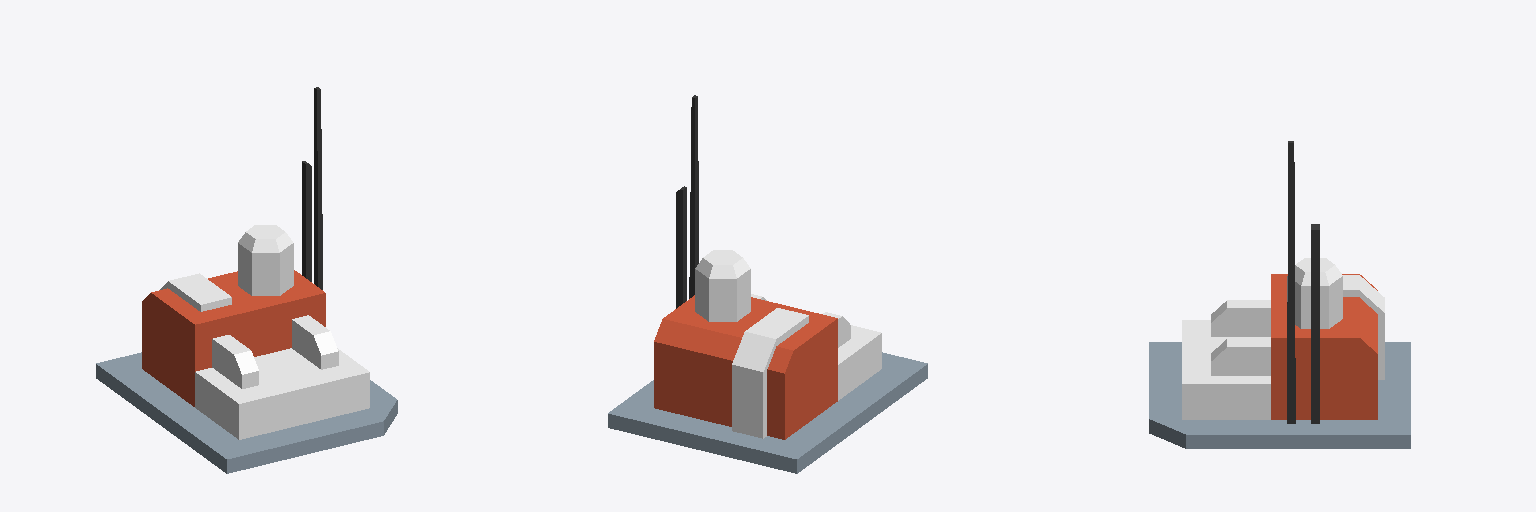
Rendered from stationLarge.obj.
The picture shows the model from 3 angles: view 1: azimuth 30°, elevation 25°; view 2: azimuth 150°, elevation 25°; view 3: azimuth 270°, elevation 25°; orthographic projection.
Parts seen in each view (by area): view 1: stationLarge; view 2: stationLarge; view 3: stationLarge.
Part boxes in pixels (x1,y1,x2,y2): stationLarge: (96, 87, 397, 473); stationLarge: (608, 95, 927, 473); stationLarge: (1149, 141, 1410, 448).
Size of the model in its own units: 5.5 by 8.15 by 6.6.